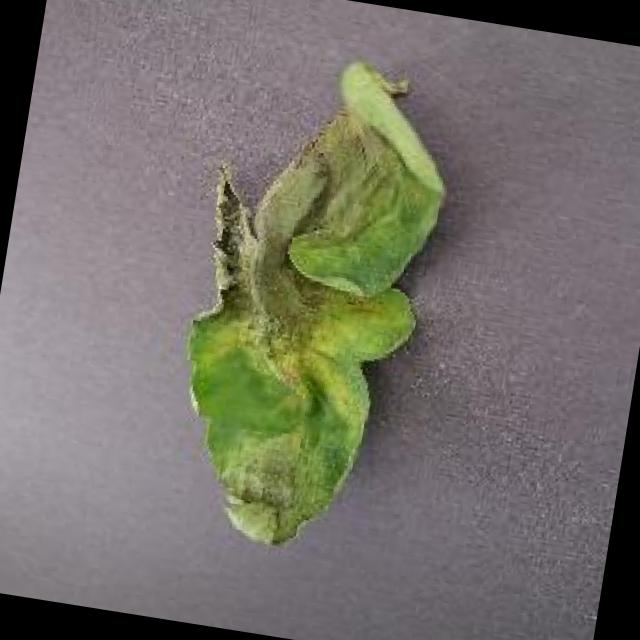Tomato_Late_Blight: (176, 99, 418, 382)
